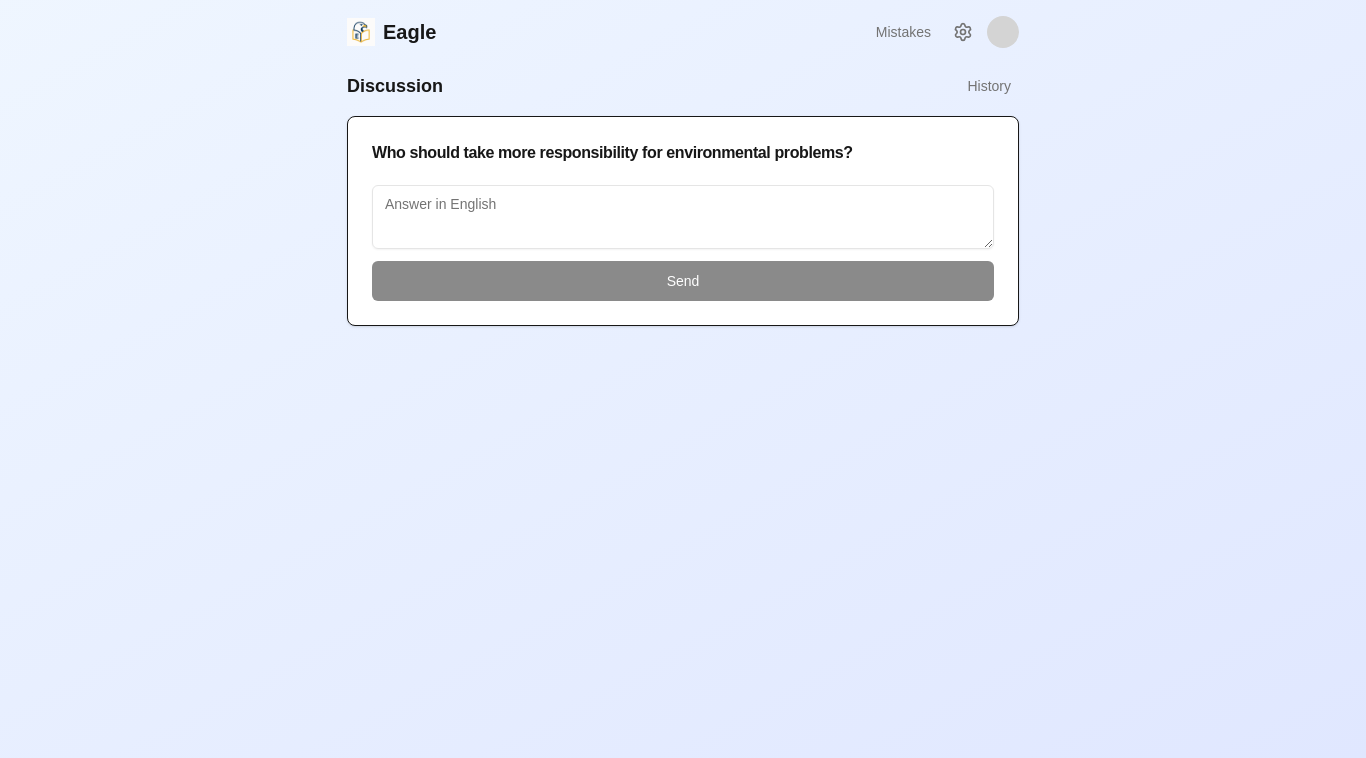
Test: DiscussionSession › summarizes the session when the reflection is submitted
Check: the heading "Who should take more responsibility for environmental problems?" is shown, box [372,144,853,161]
In the text box named "Your answer": (683, 217) [372,185,994,249], type "I think companies."
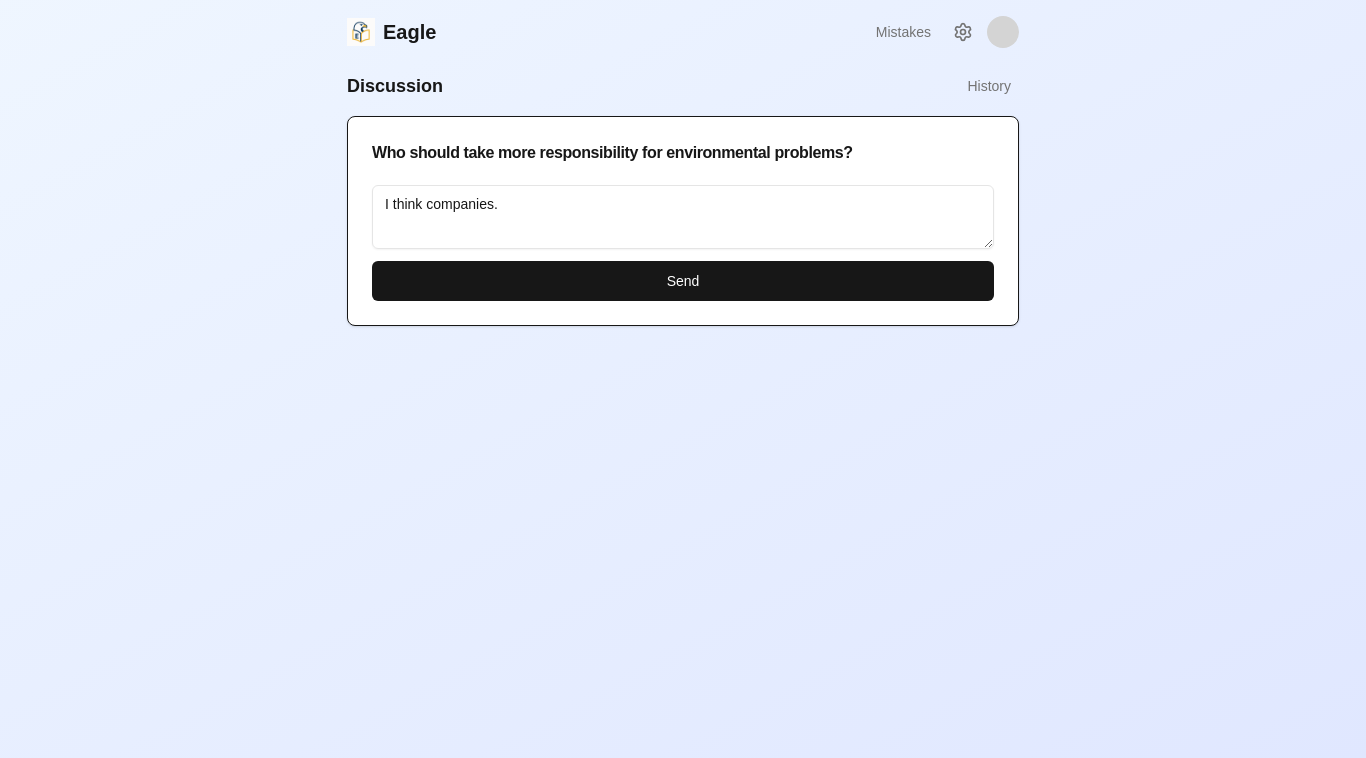
Click the button "Send": click(683, 281) [372,261,994,301]
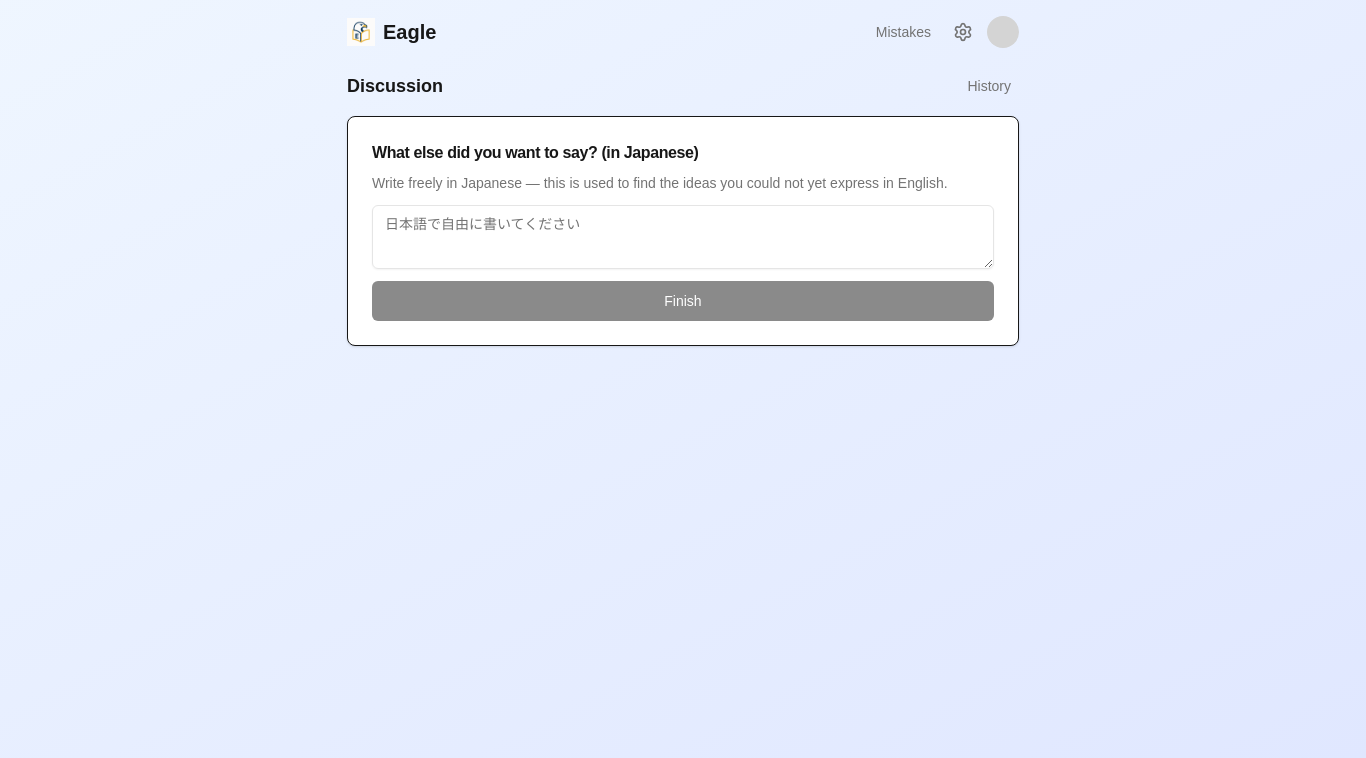
Check: the text box named "Japanese reflection" is shown
In the text box named "Japanese reflection": (683, 237) [372,205,994,269], type "制度を変えるべき。"
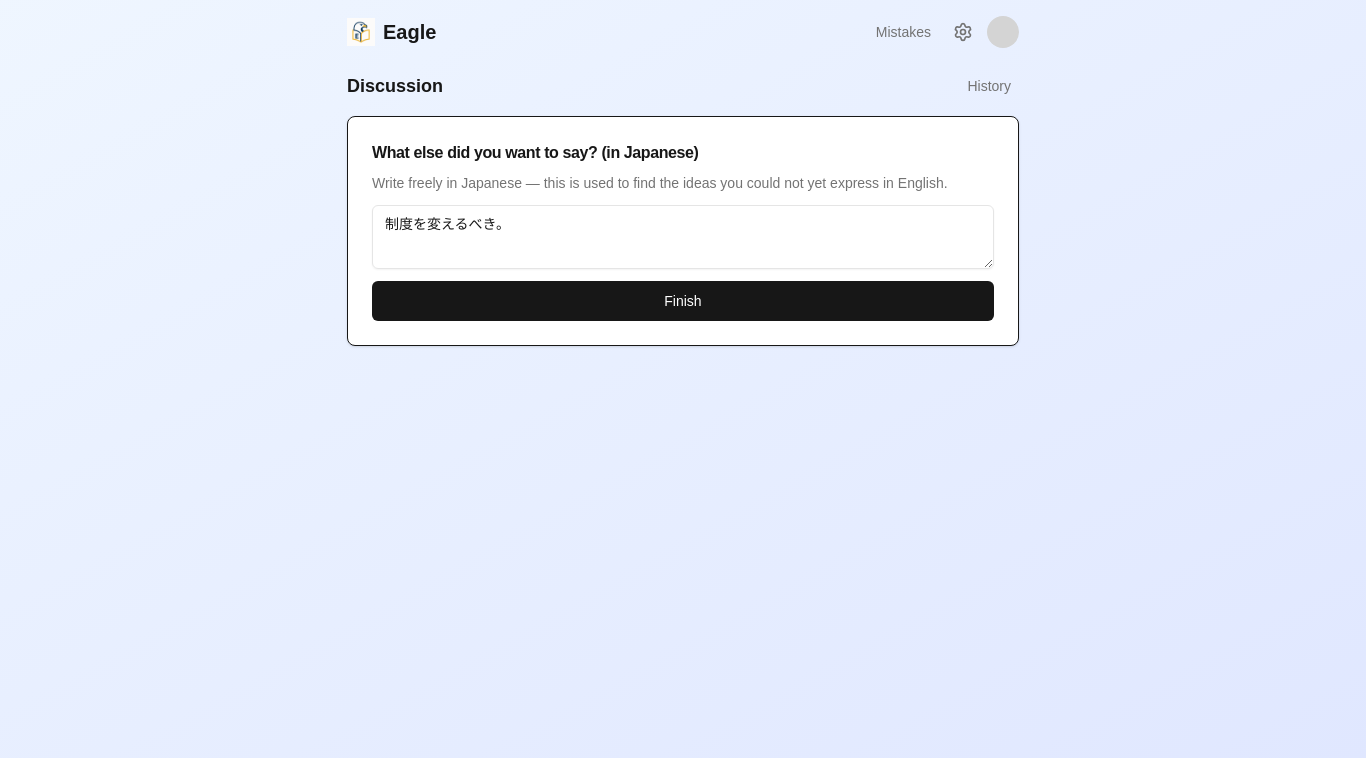
Click the button "Finish": click(683, 301) [372,281,994,321]
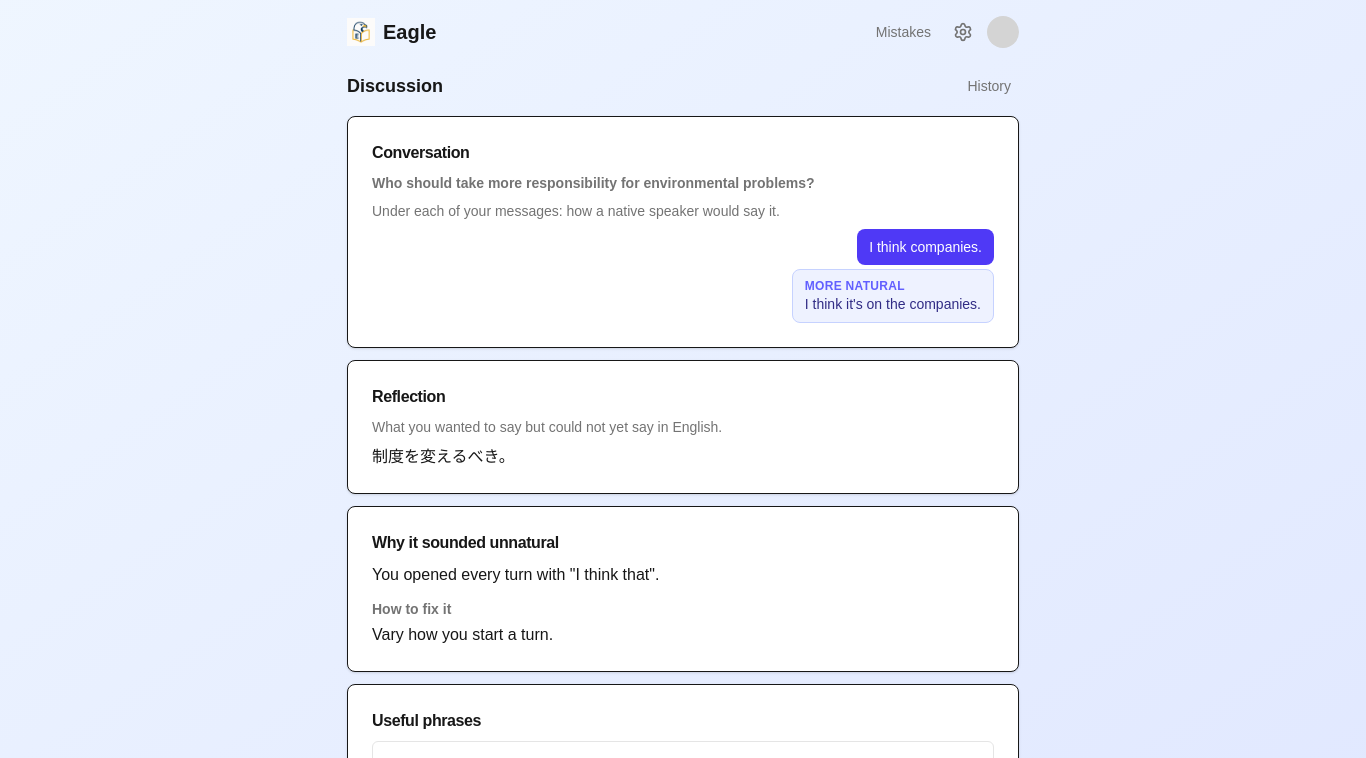
Check: the text "I think it's on the companies." is shown, box [805,296,981,312]
Check: the text "I think it's on the companies." shows "I think companies.", box [869,239,982,255]
Check: the text "You opened every turn with \"I think that\"." is shown, box [372,566,659,583]
